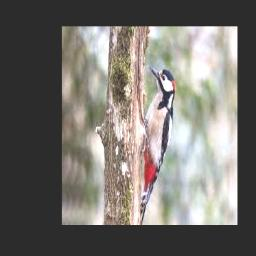Woodpecker: (140, 65, 175, 225)
